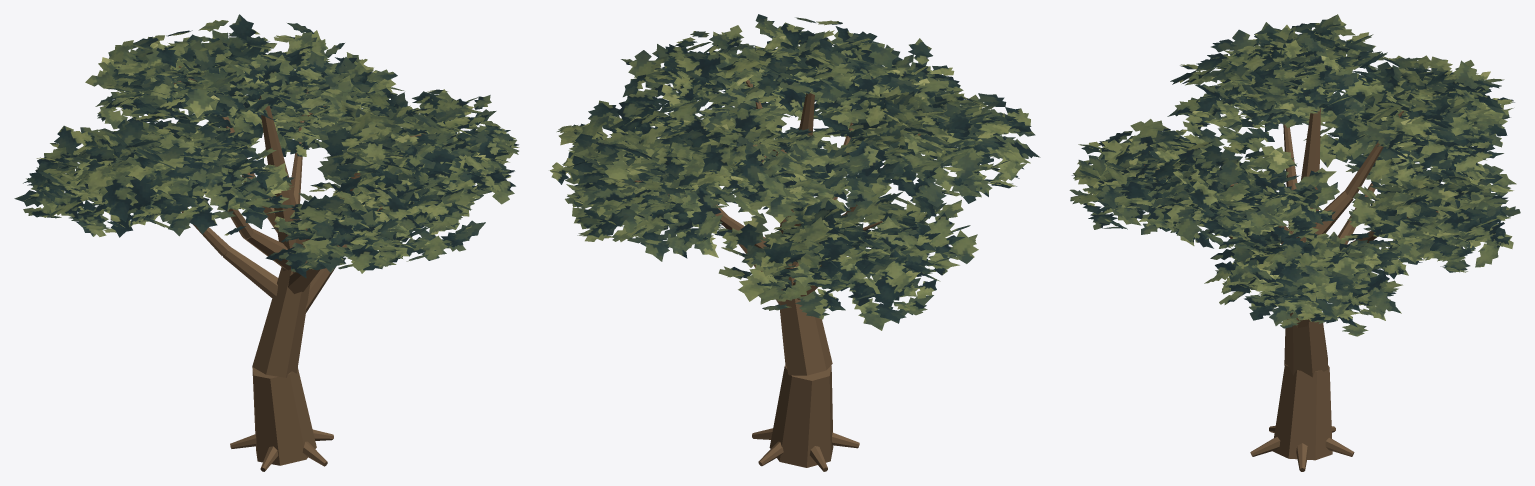
Rendered from painted_oak.glb.
3 views of the same model, side by side, from view 1: azimuth 30°, elevation 25°; view 2: azimuth 150°, elevation 25°; view 3: azimuth 270°, elevation 25° (orthographic). The views are drawn at different scales.
Parts seen in each view (by area): view 1: OakLeafSprays, OakBranch.099, OakBranch.100, OakBranch.101, OakBranch.112, OakBranch.127; view 2: OakLeafSprays, OakBranch.099, OakBranch.100, OakBranch.101; view 3: OakLeafSprays, OakBranch.099, OakBranch.100, OakBranch.101, OakBranch.138, OakBranch.137.
Part boxes in pixels (<box>): OakLeafSprays: <box>14,14,519,278</box>; OakBranch.099: <box>252,367,316,465</box>; OakBranch.100: <box>252,267,310,377</box>; OakBranch.101: <box>259,96,307,273</box>; OakBranch.112: <box>223,247,278,297</box>; OakBranch.127: <box>243,228,290,270</box>; OakLeafSprays: <box>549,14,1040,330</box>; OakBranch.099: <box>769,365,833,467</box>; OakBranch.100: <box>779,263,832,375</box>; OakBranch.101: <box>779,93,814,267</box>; OakLeafSprays: <box>1069,14,1520,336</box>; OakBranch.099: <box>1272,364,1332,460</box>; OakBranch.100: <box>1284,311,1328,377</box>; OakBranch.101: <box>1293,108,1320,242</box>; OakBranch.138: <box>1344,111,1403,198</box>; OakBranch.137: <box>1315,191,1353,235</box>.
Bounding box in the file's own units: 6.06 × 5.44 × 5.5.
2 materials, 1 textured.
